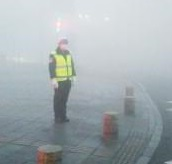person: (48, 35, 77, 124)
